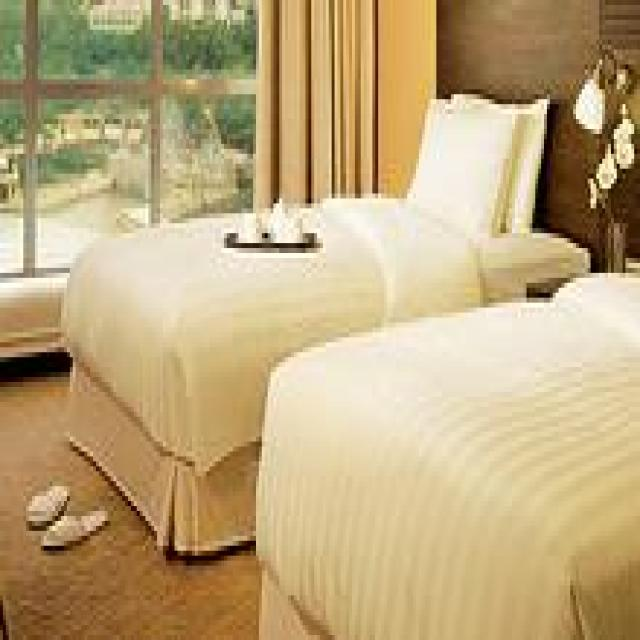bed: (253, 268, 637, 635)
